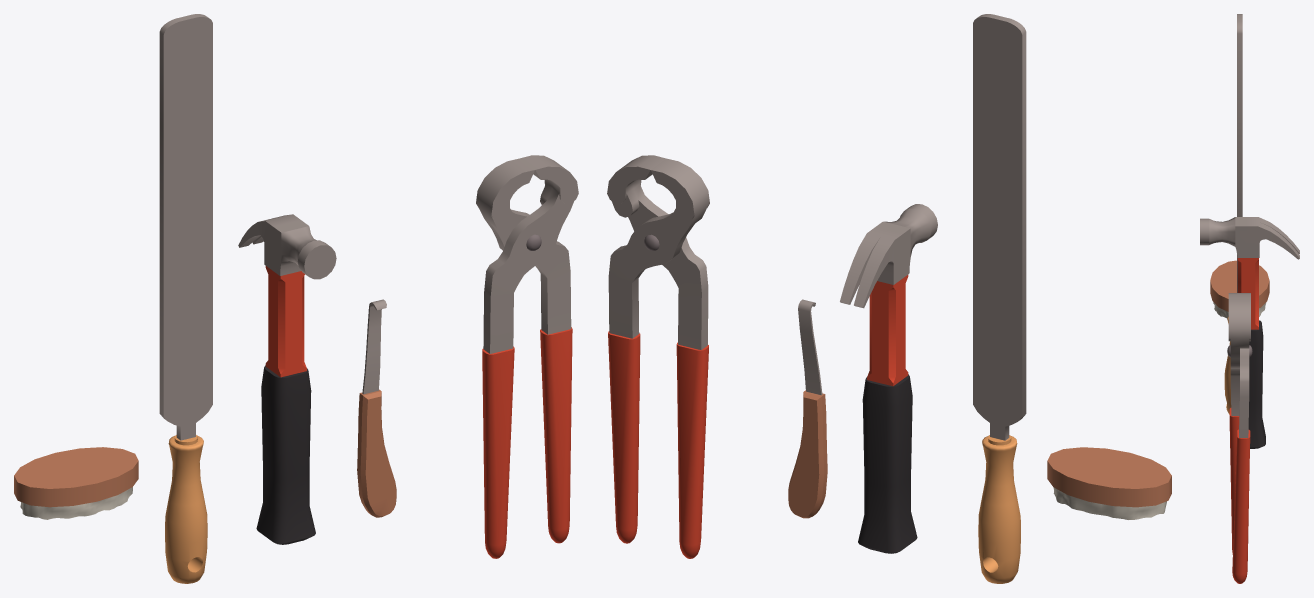
File: CarvingTools.fbx
3 renders of one model, left to right at view 1: azimuth 30°, elevation 25°; view 2: azimuth 150°, elevation 25°; view 3: azimuth 270°, elevation 25°, orthographic. The views are drawn at different scales.
Visible parts, largest first — view 1: Cube, Cube.001, Cube.003, Cube.002, Cylinder, Plane.001; view 2: Cube, Cube.001, Cube.002, Cube.003, Cylinder, Plane.001; view 3: Cube.001, Cube.002, Cube.003, Cube, Cylinder.
Part boxes in pixels (x1,y1,x2,y2): Cube: (159,14,212,583); Cube.001: (238,214,336,544); Cube.003: (482,155,578,558); Cube.002: (476,158,572,543); Cylinder: (14,447,138,519); Plane.001: (357,299,396,517); Cube: (973,14,1026,583); Cube.001: (840,204,937,553); Cube.002: (608,158,709,543); Cube.003: (607,155,708,558); Cylinder: (1047,447,1171,519); Plane.001: (788,299,827,518); Cube.001: (1200,217,1299,448); Cube.002: (1228,293,1252,583); Cube.003: (1227,299,1250,554); Cube: (1224,14,1242,414); Cylinder: (1210,260,1269,318).
Size of the model in its own units: 0.8865 by 0.9395 by 0.1951.
